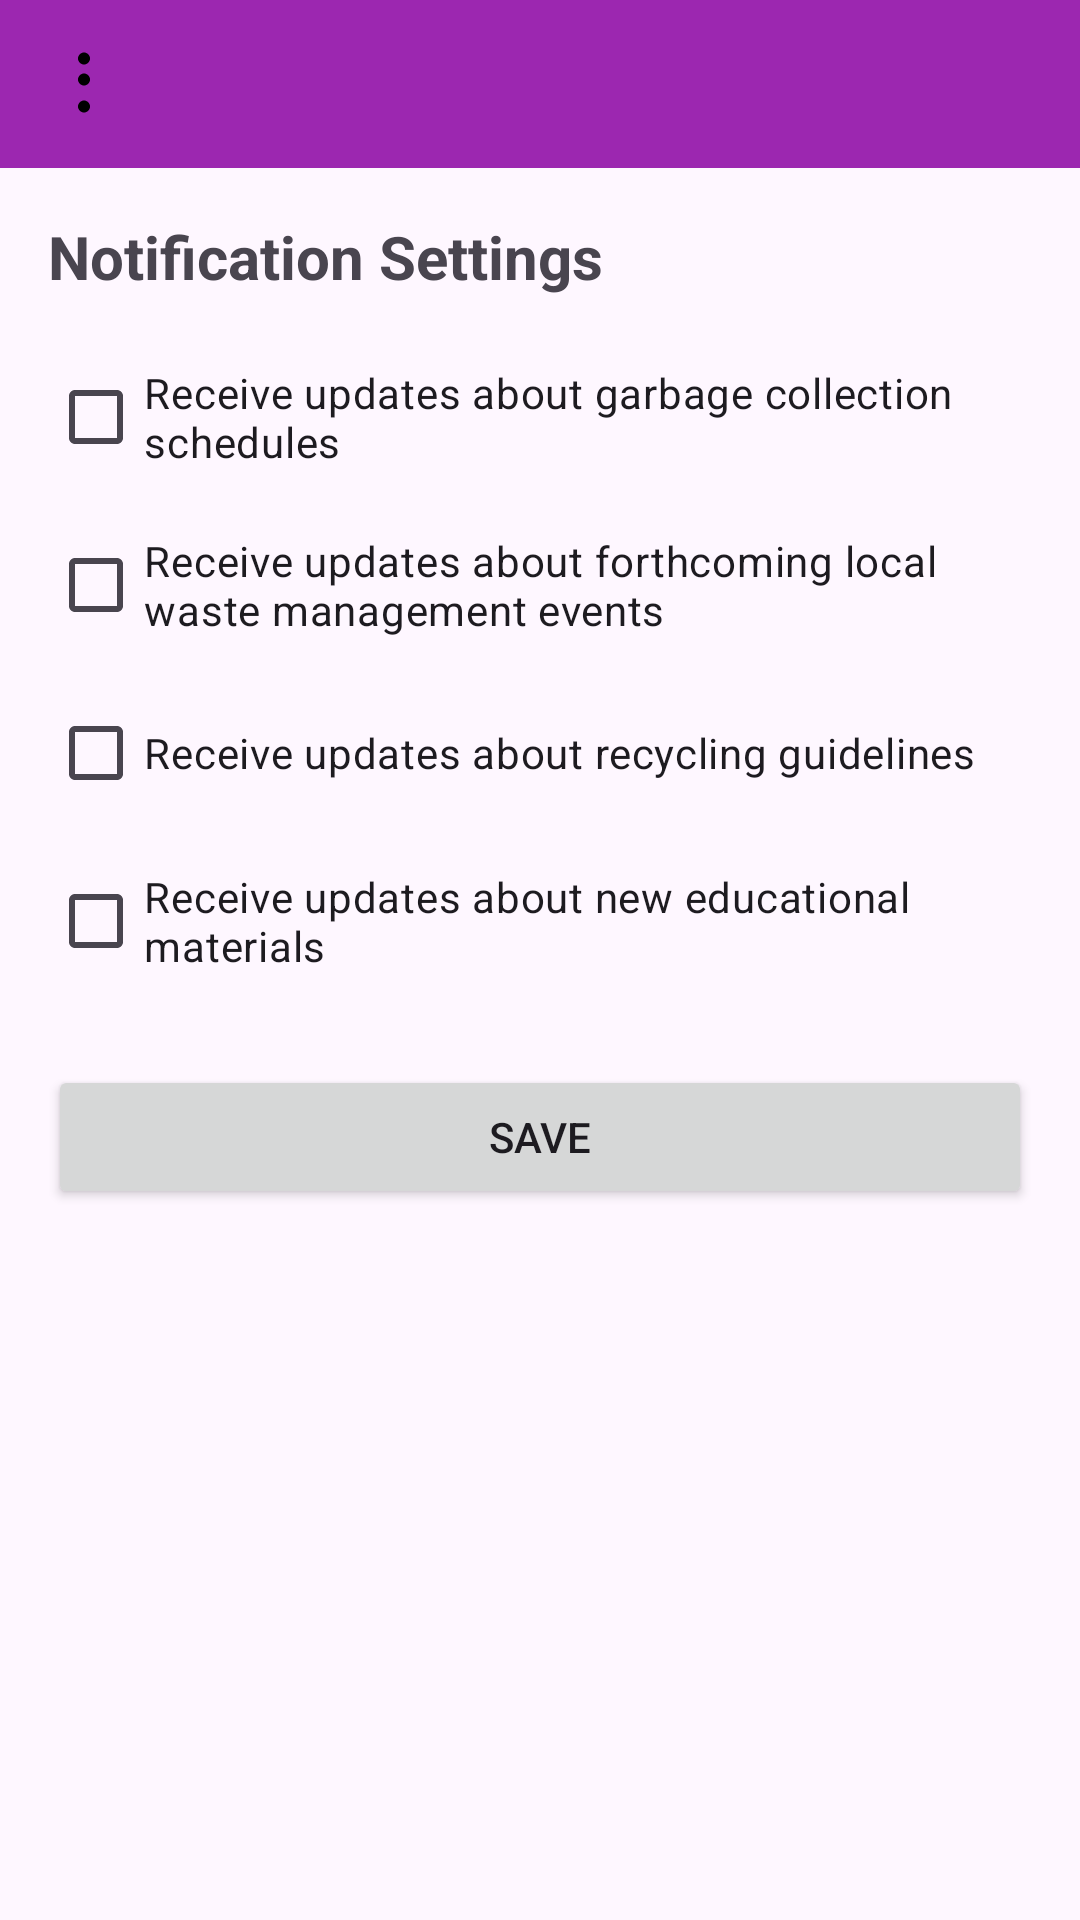

Icon bounding boxes for this 1080px×1920px phone screenshot, format (x1, y1, x2, y2):
Three Dot Menu: (78, 52, 90, 113)
